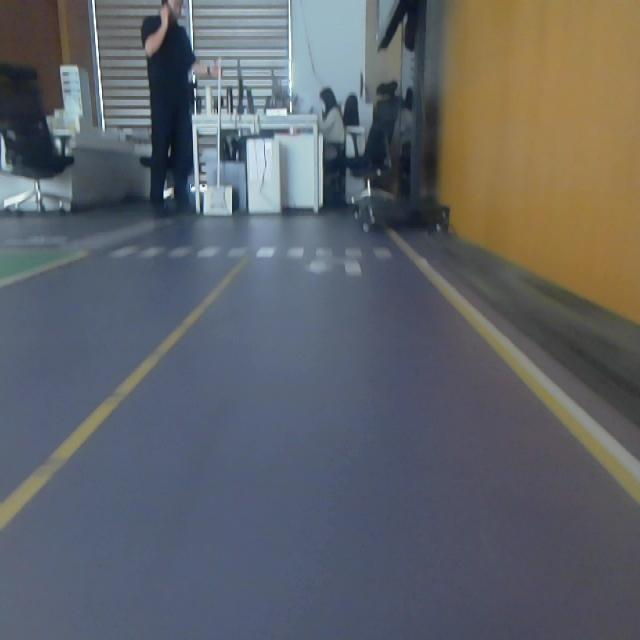left_lane: (0, 256, 247, 534)
right_lane: (395, 238, 640, 509)
